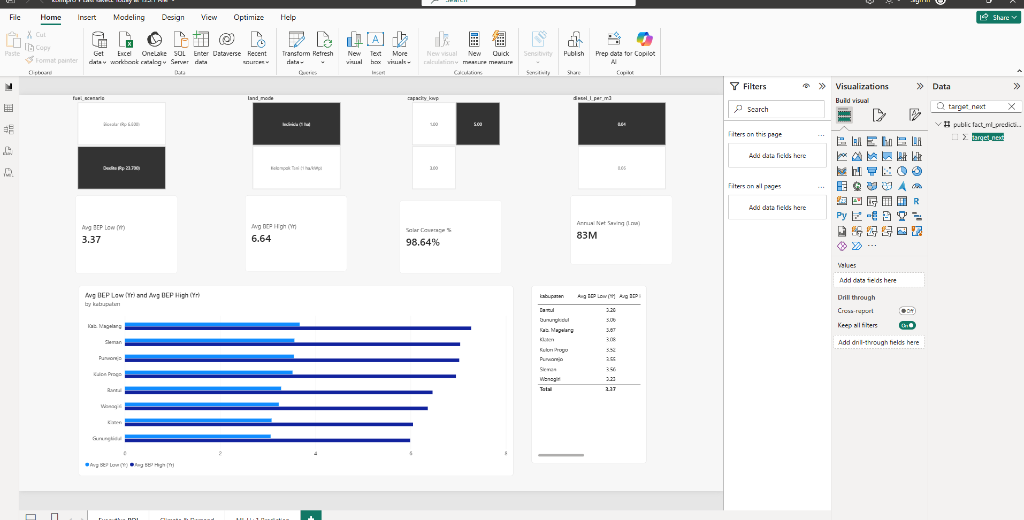

The dashboard page shown, as its layout file describes it:
{"tool":"powerbi","page":{"name":"Executive ROI","canvas":[1920,1080],"ordinal":0},"visuals":[{"type":"slicer","fields":{"Values":["public fact_roi_simulation.fuel_scenario"]},"box":[138.6,0,278.7,258.2],"z":0},{"type":"slicer","fields":{"Values":["public fact_roi_simulation.land_mode"]},"box":[615.7,0,278.7,258.2],"z":1000},{"type":"slicer","fields":{"Values":["public dim_scenario.capacity_kwp"]},"box":[1050.5,0,278.7,258.2],"z":2000},{"type":"slicer","fields":{"Values":["public fact_roi_simulation.diesel_l_per_m3"]},"box":[1502.7,0,278.7,258.2],"z":3000},{"type":"cardVisual","fields":{"Data":["_Measures.Avg BEP Low (Yr)"]},"box":[153.2,272.8,278.7,214.5],"z":4000},{"type":"cardVisual","fields":{"Data":["_Measures.Avg BEP High (Yr)"]},"box":[615.7,272.8,278.7,208.6],"z":5000},{"type":"cardVisual","fields":{"Data":["_Measures.Solar Coverage %"]},"box":[1037.3,286,278.7,201.3],"z":6000},{"type":"cardVisual","fields":{"Data":["_Measures.Annual Net Saving (Low)"]},"box":[1502.7,272.8,278.7,189.7],"z":7000},{"type":"clusteredBarChart","fields":{"Category":["public dim_region.kabupaten"],"Y":["_Measures.Avg BEP Low (Yr)","_Measures.Avg BEP High (Yr)"]},"box":[161.9,519.4,1186.1,519.4],"z":8000},{"type":"tableEx","fields":{"Values":["public dim_region.kabupaten","_Measures.Avg BEP Low (Yr)","_Measures.Avg BEP High (Yr)","_Measures.Solar Coverage %","_Measures.Annual Net Saving (Low)"]},"box":[1396.2,519.4,315.1,484.4],"z":9000}]}

Visuals, with their boxes on the page's 1920x1080 design canvas (x1, y1, x2, y2). These are canvas units, not pixel positions in the 1024x520 screenshot, which may show the page scaled, cropped or inside an application window:
slicer - public fact_roi_simulation.fuel_scenario: <region>139, 0, 417, 258</region>
slicer - public fact_roi_simulation.land_mode: <region>616, 0, 894, 258</region>
slicer - public dim_scenario.capacity_kwp: <region>1050, 0, 1329, 258</region>
slicer - public fact_roi_simulation.diesel_l_per_m3: <region>1503, 0, 1781, 258</region>
cardVisual - _Measures.Avg BEP Low (Yr): <region>153, 273, 432, 487</region>
cardVisual - _Measures.Avg BEP High (Yr): <region>616, 273, 894, 481</region>
cardVisual - _Measures.Solar Coverage %: <region>1037, 286, 1316, 487</region>
cardVisual - _Measures.Annual Net Saving (Low): <region>1503, 273, 1781, 462</region>
clusteredBarChart - public dim_region.kabupaten x _Measures.Avg BEP Low (Yr): <region>162, 519, 1348, 1039</region>
tableEx - public dim_region.kabupaten x _Measures.Avg BEP Low (Yr): <region>1396, 519, 1711, 1004</region>
